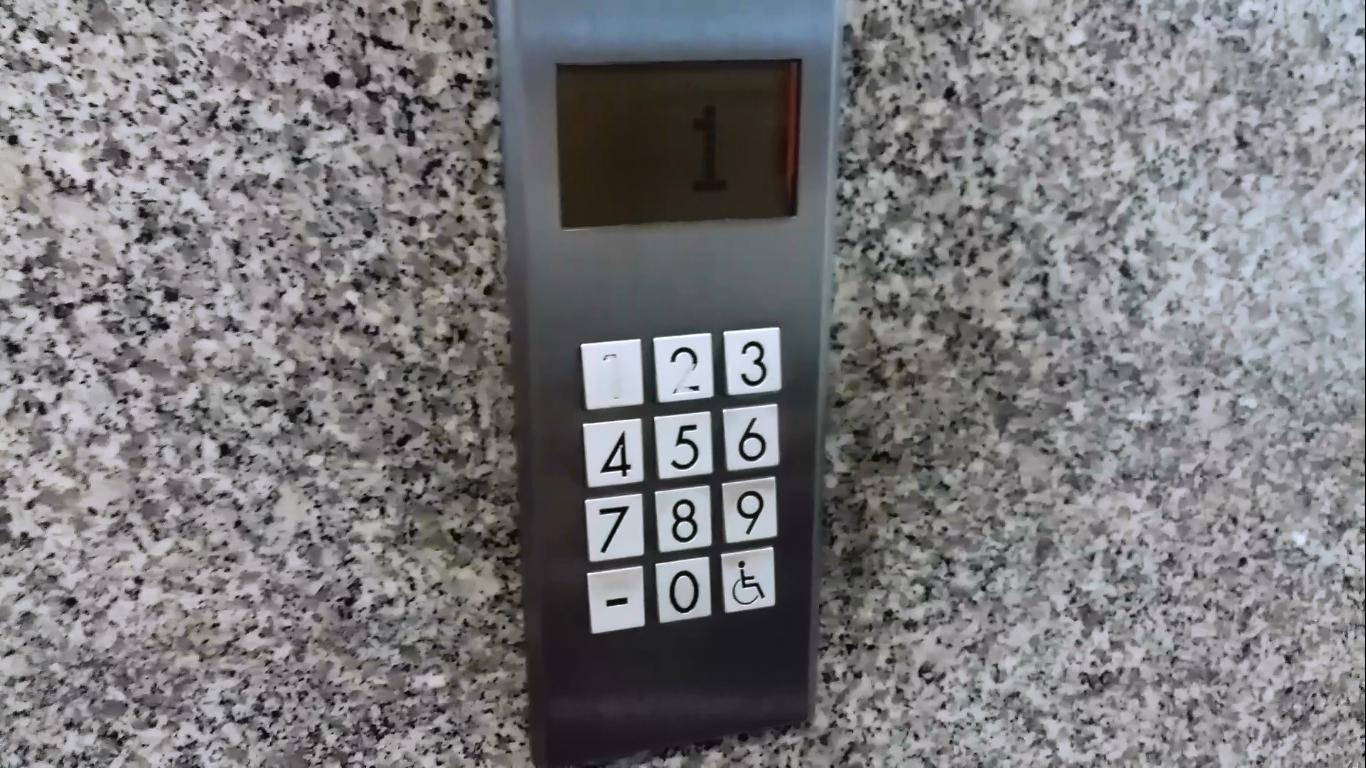-: (585, 565, 644, 633)
0: (654, 557, 712, 623)
1: (578, 335, 643, 411)
2: (650, 332, 715, 404)
3: (721, 325, 783, 395)
4: (582, 419, 644, 487)
5: (653, 411, 711, 478)
6: (720, 403, 781, 473)
7: (584, 491, 645, 563)
8: (653, 484, 714, 553)
9: (719, 475, 779, 546)
CH: (719, 544, 776, 614)
led: (549, 54, 803, 231)
